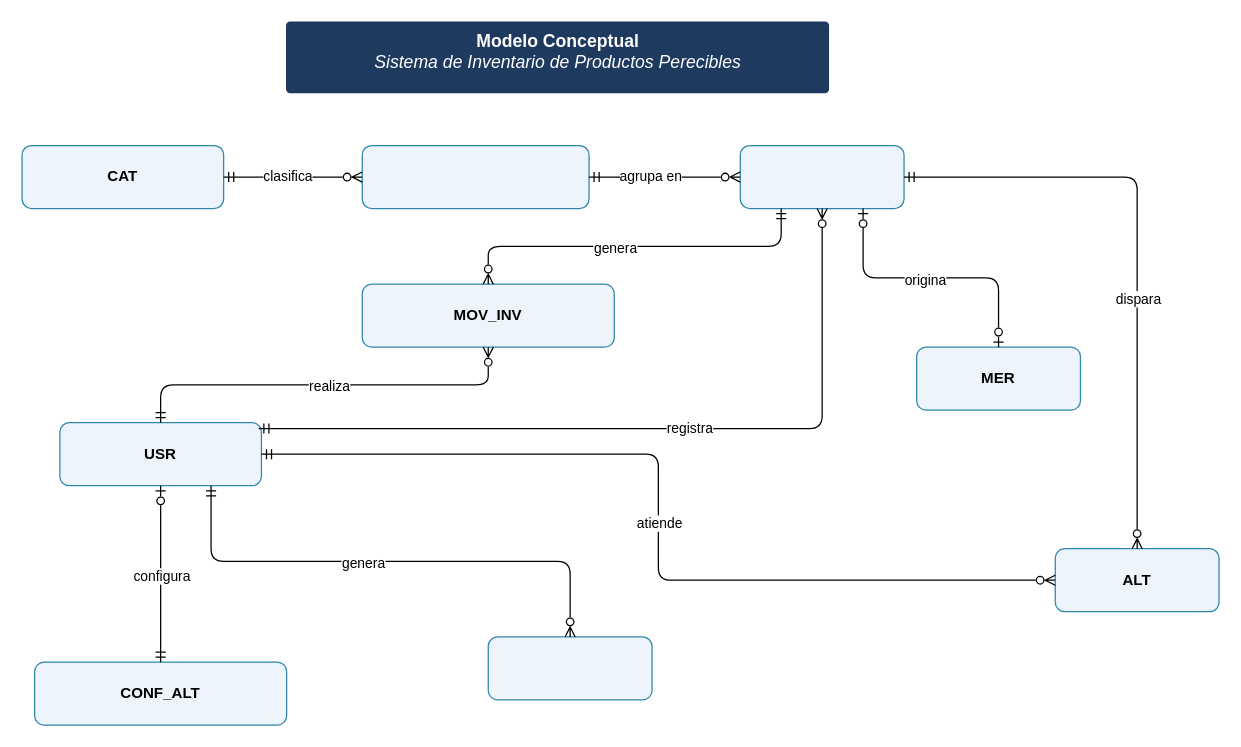
The diagram is 1241 pixels wide and 747 high, and some of its shapes have lost their labels. The shapes that lost their labels are listed below. From the top down, each one's centre as x and y in pixels, then its label:
At (x=475, y=176): "PROD".
At (x=821, y=176): "LOT".
At (x=569, y=668): "REP".
